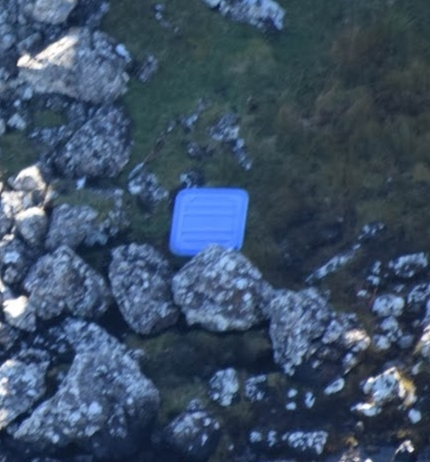cuboid: (153, 177, 258, 266)
